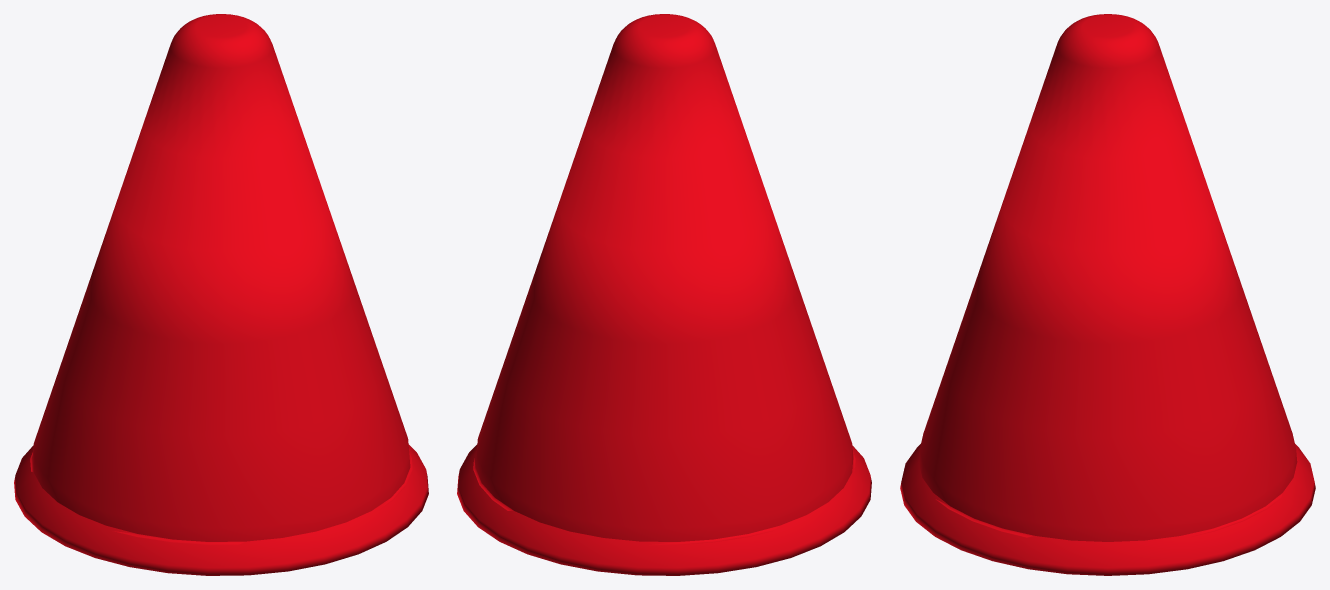
File: Soccer Cone.fbx
3 views of the same model, side by side, from view 1: azimuth 30°, elevation 25°; view 2: azimuth 150°, elevation 25°; view 3: azimuth 270°, elevation 25° (orthographic).
Parts seen in each view (by area): view 1: Soccer Cone; view 2: Soccer Cone; view 3: Soccer Cone.
Part boxes in pixels (x1=…): Soccer Cone: x1=14, y1=14, x2=428, y2=575; Soccer Cone: x1=457, y1=14, x2=871, y2=575; Soccer Cone: x1=900, y1=14, x2=1315, y2=575.
Size of the model in its own units: 97.16 by 119 by 97.16.
